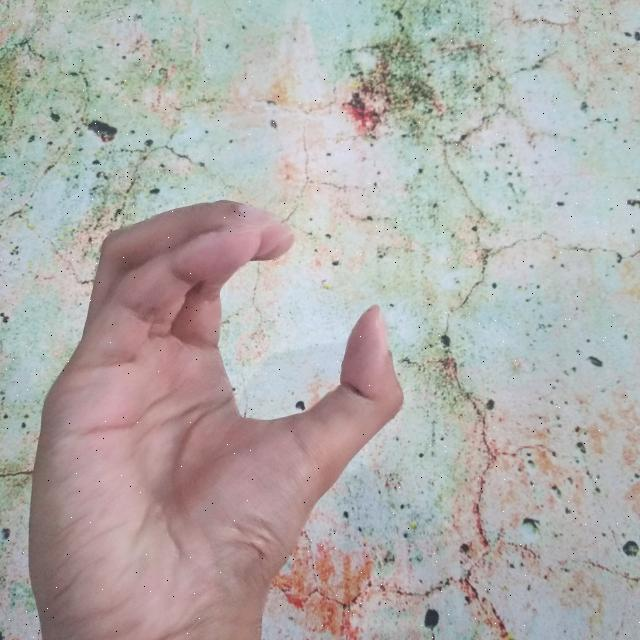C: (30, 197, 408, 640)
